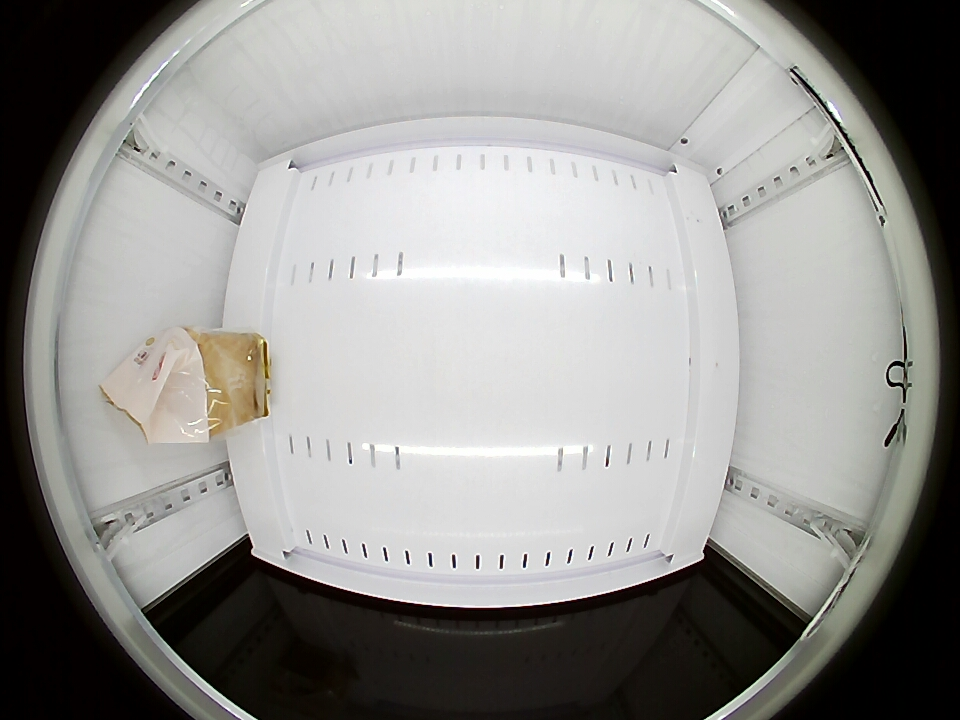zaocanmofang: (114, 327, 236, 443)
